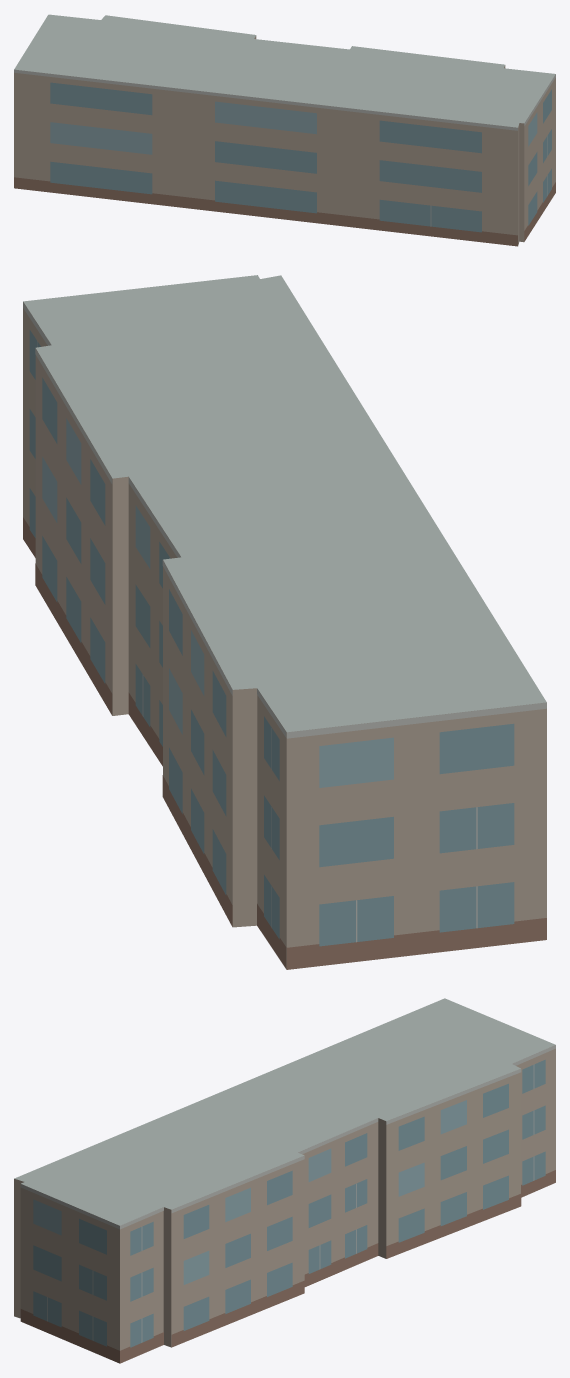
The model's file is survey-upis-32673783.glb.
3 views of the same model, one above another, from view 1: azimuth 30°, elevation 25°; view 2: azimuth 150°, elevation 25°; view 3: azimuth 270°, elevation 25° (orthographic). The views are drawn at different scales.
Parts seen in each view (by area): view 1: survey-upis-32673783.tmp; view 2: survey-upis-32673783.tmp; view 3: survey-upis-32673783.tmp.
Part boxes in pixels (<box>): survey-upis-32673783.tmp: <box>14,14,555,246</box>; survey-upis-32673783.tmp: <box>23,275,546,969</box>; survey-upis-32673783.tmp: <box>14,998,555,1363</box>.
Size of the model in its own units: 32.41 by 9.15 by 32.61.
